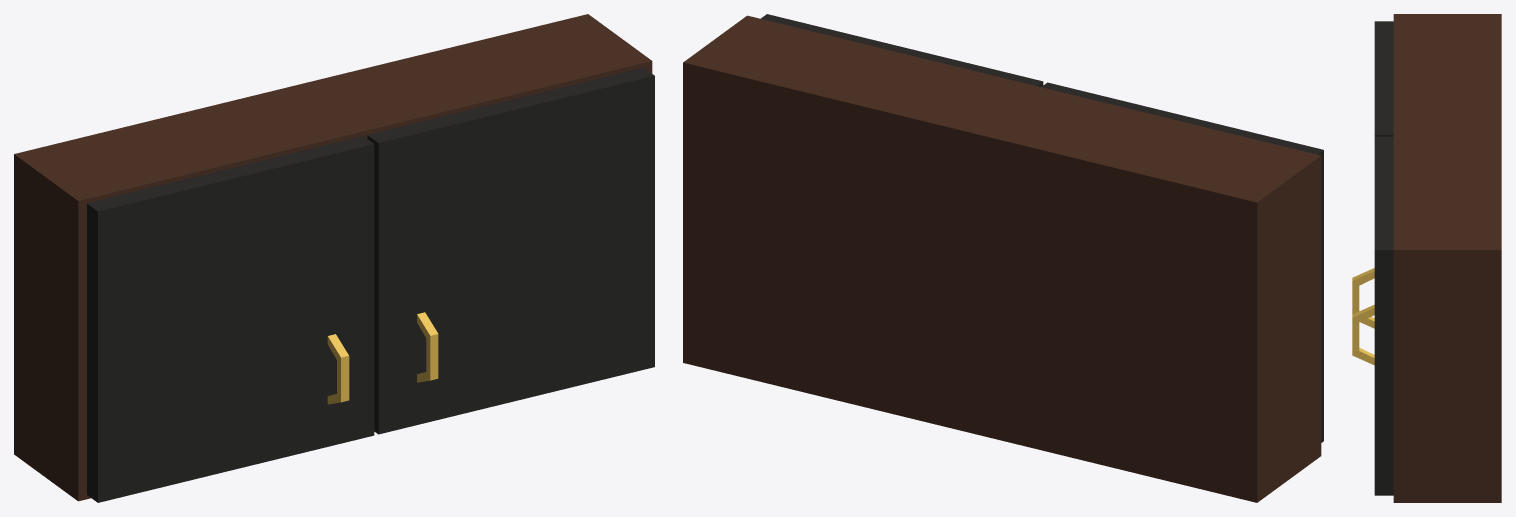
File: Cupboard_3_1.fbx
3 renders of one model, left to right at view 1: azimuth 30°, elevation 25°; view 2: azimuth 150°, elevation 25°; view 3: azimuth 270°, elevation 25°, orthographic. The views are drawn at different scales.
Parts seen in each view (by area): view 1: polySurface1568; view 2: polySurface1568; view 3: polySurface1568.
Boxes of the visible parts, box(x1,y1,x2,y2) form: polySurface1568: box(14, 14, 654, 502); polySurface1568: box(683, 14, 1323, 502); polySurface1568: box(1352, 14, 1501, 502).
Size of the model in its own units: 1.8 by 0.9 by 0.4813.
1 material, 1 textured.
